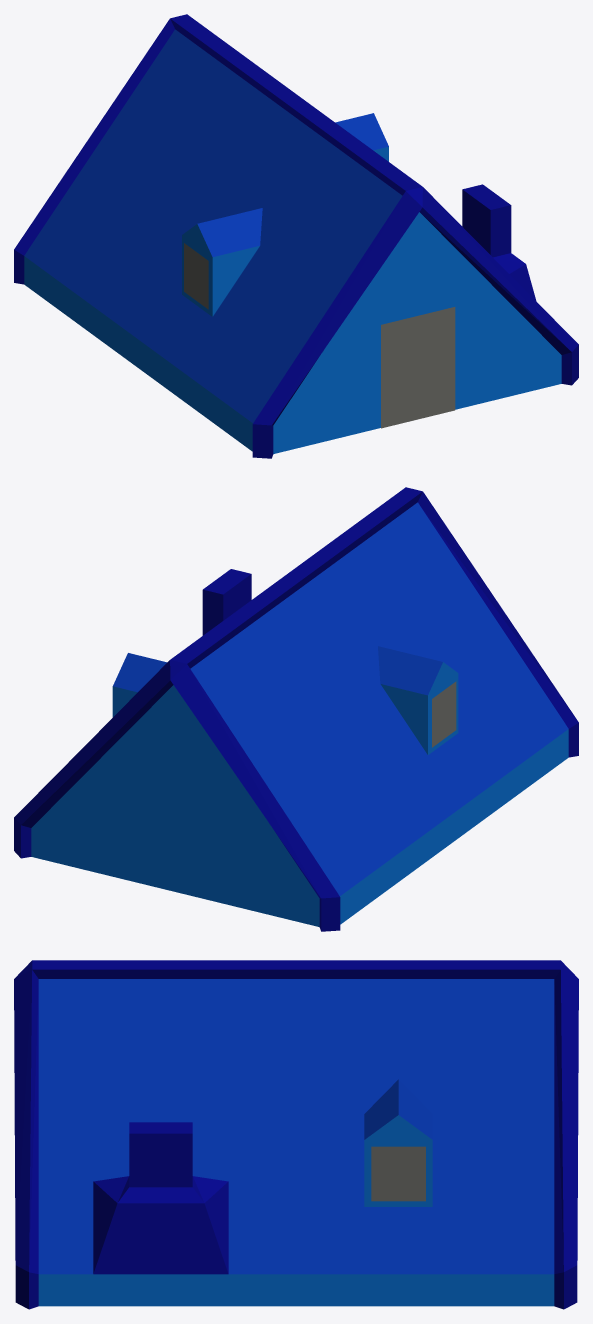
Rendered from House-Snow-S-1.fbx.
3 views of the same model, one above another, from view 1: azimuth 30°, elevation 25°; view 2: azimuth 150°, elevation 25°; view 3: azimuth 270°, elevation 25° (orthographic). The views are drawn at different scales.
Parts seen in each view (by area): view 1: House-Snow-S-1; view 2: House-Snow-S-1; view 3: House-Snow-S-1.
Boxes of the visible parts, <box> form: House-Snow-S-1: <box>14,14,578,458</box>; House-Snow-S-1: <box>14,487,578,931</box>; House-Snow-S-1: <box>14,960,578,1309</box>.
Bounding box in the file's own units: 623 × 415 × 833.
